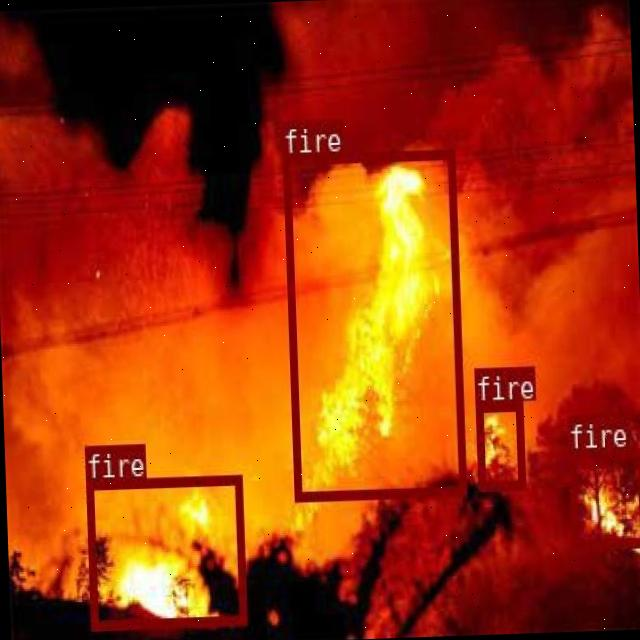fire: (282, 148, 465, 499), (86, 473, 244, 628), (567, 447, 640, 546), (475, 400, 523, 489)
